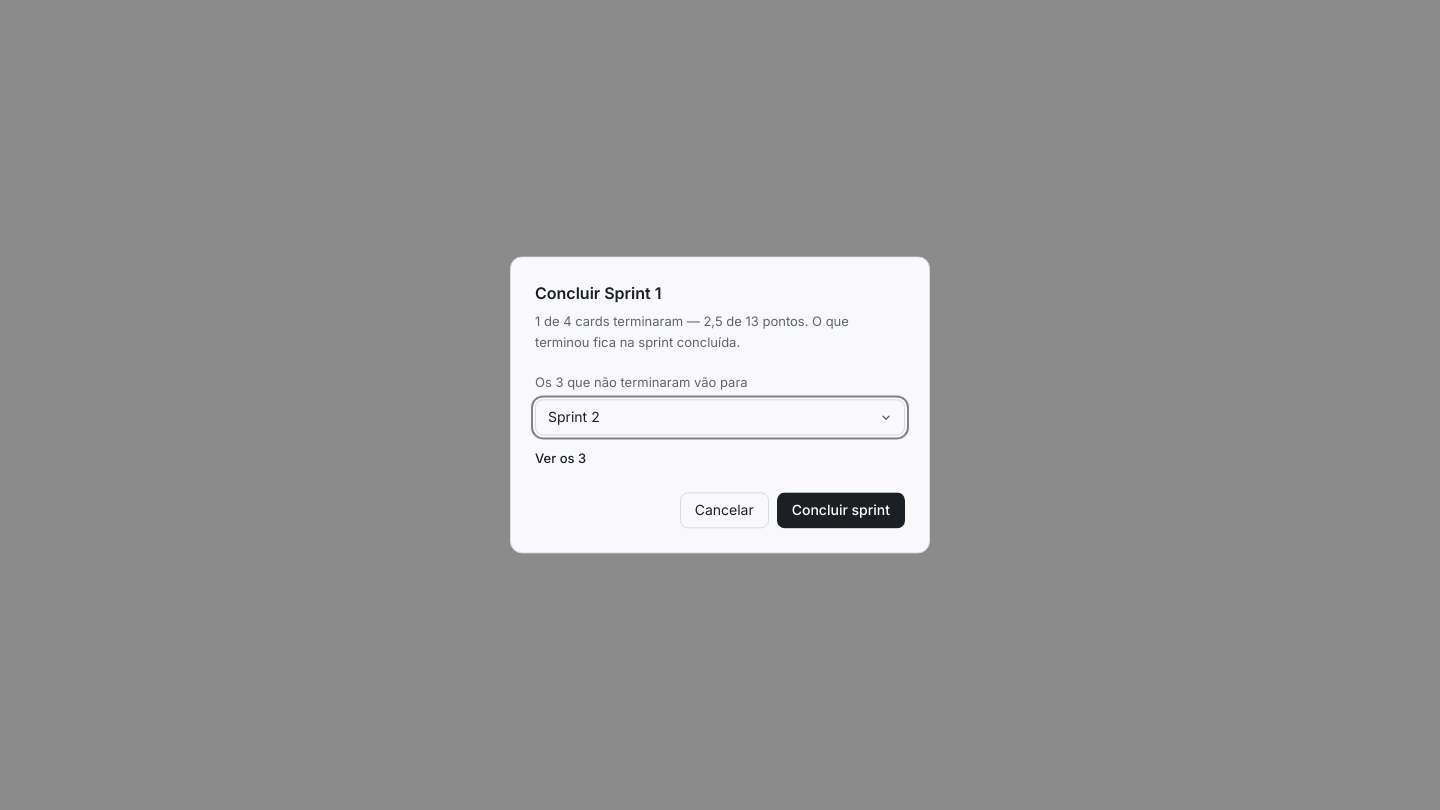
Test: concluir uma sprint › "Ver os 3" mostra quais nao terminaram e esconde de novo; a leitura que falha deixa tentar
Click the button "Ver os 3" at x=561, y=459, box left=535, top=449, right=586, bottom=469
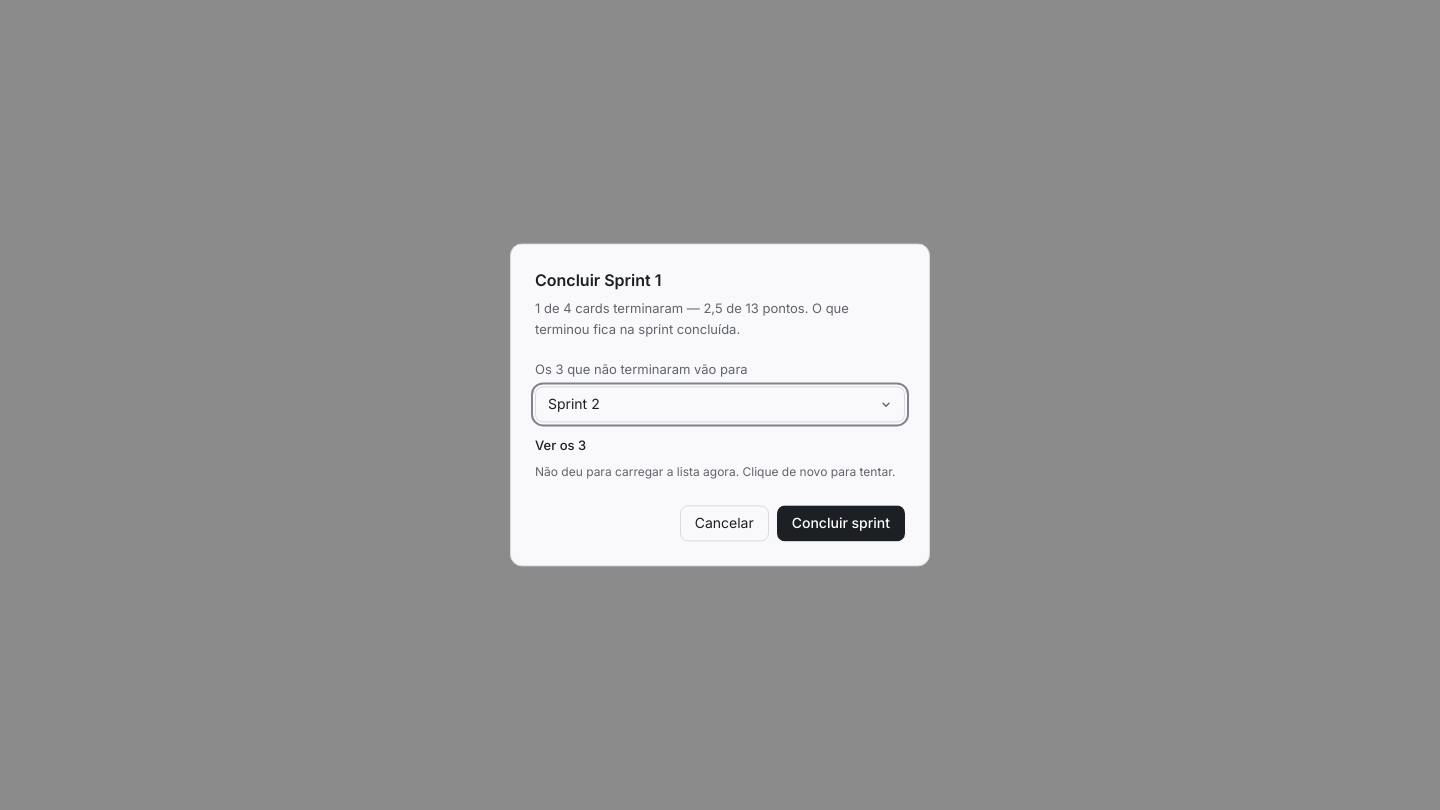
expect the text "Não deu para carregar a lista agora. Clique de novo para tentar." is shown: met, box left=535, top=464, right=905, bottom=482
Click the button "Ver os 3" at x=561, y=446, box left=535, top=436, right=586, bottom=456
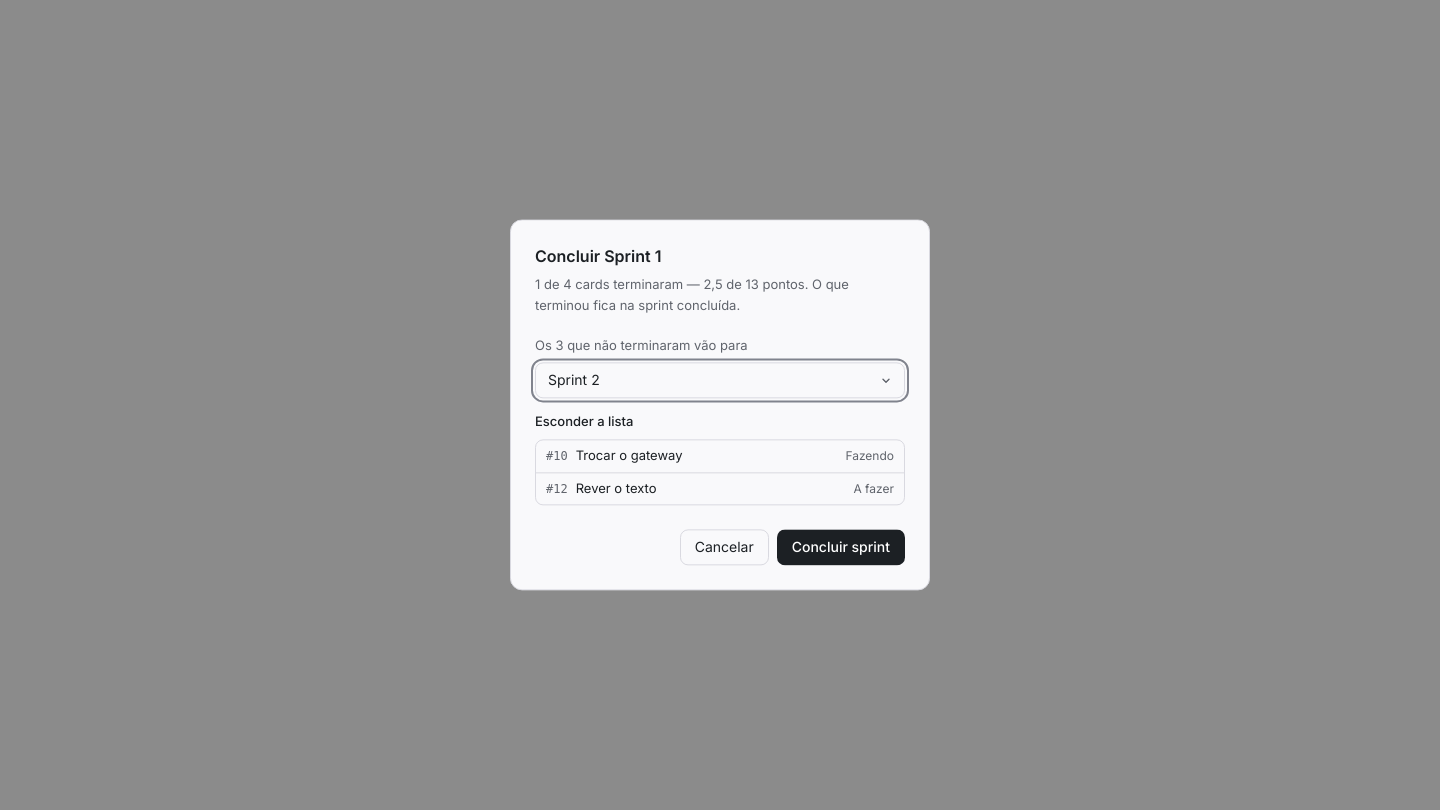
expect the list items read "#10Trocar o gatewayFazendo", "#12Rever o textoA fazer", in this order: met, box left=536, top=441, right=904, bottom=473; left=546, top=480, right=894, bottom=496
expect the button "Esconder a lista" is expanded: met
Click the button "Esconder a lista" at x=584, y=422, box left=535, top=412, right=634, bottom=432
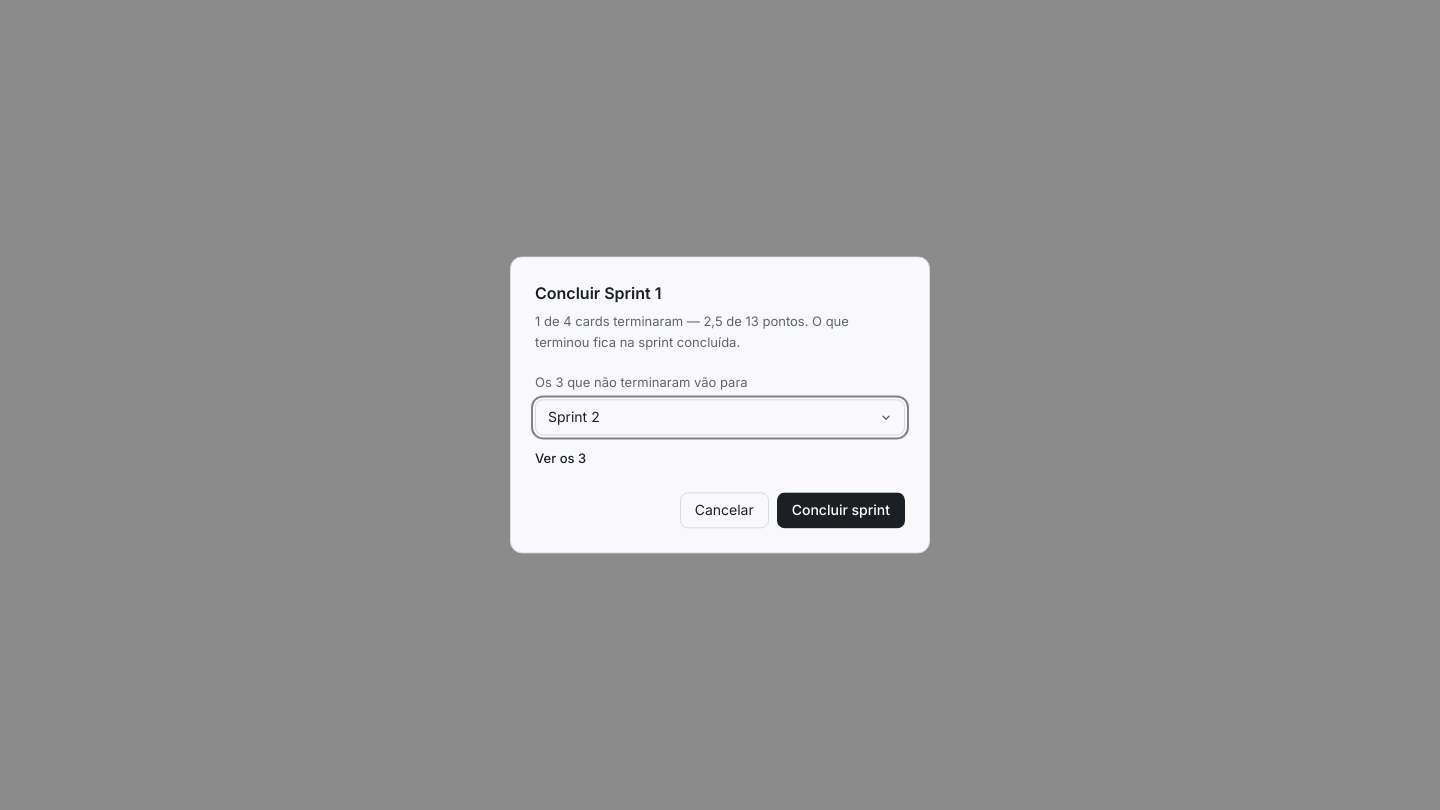
expect the list is gone: met
expect the button "Ver os 3" is collapsed: met, box left=535, top=449, right=586, bottom=469
